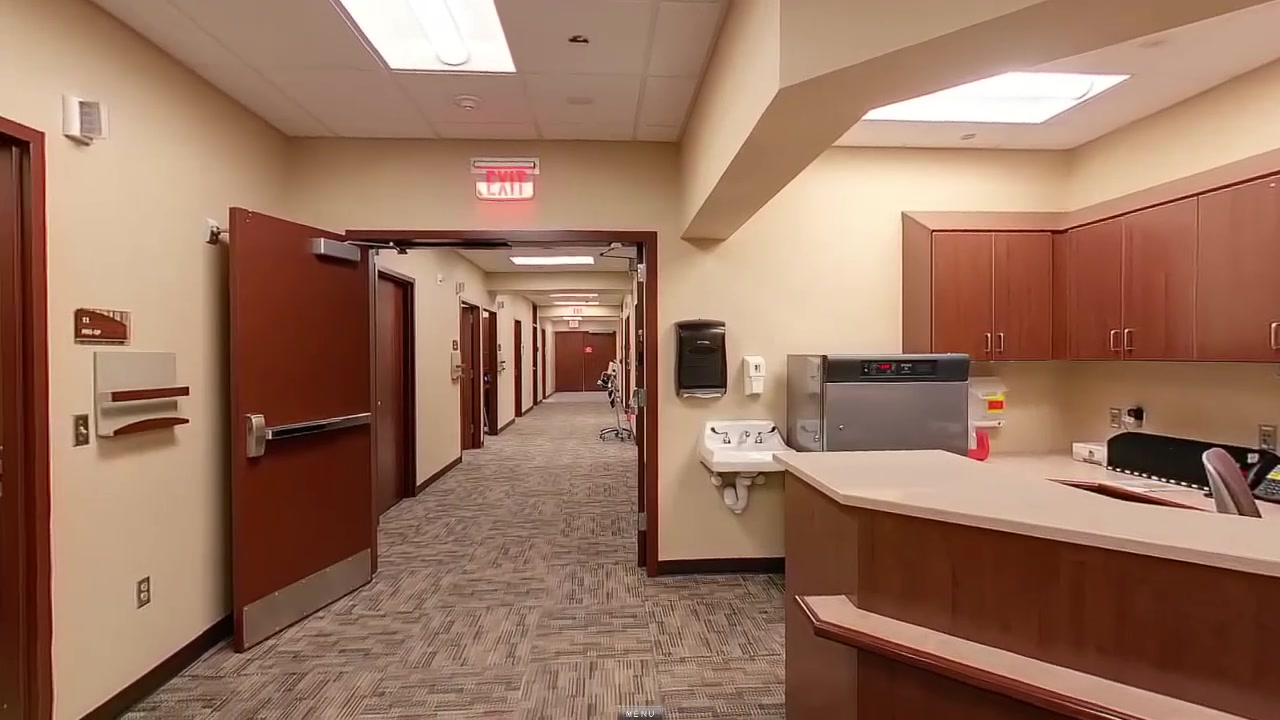cabinet: (902, 140, 1276, 362)
counter: (772, 449, 1280, 720)
countertop: (772, 450, 1280, 559), (986, 447, 1280, 523)
dispenser: (674, 318, 727, 401), (742, 352, 768, 398)
faucet: (710, 425, 778, 444)
handle: (1268, 320, 1280, 352), (1108, 329, 1120, 352), (1124, 327, 1136, 350), (984, 331, 992, 353), (996, 331, 1004, 353)
light_switch: (71, 411, 93, 448)
push_latch: (242, 412, 373, 458)
sink: (698, 419, 797, 474)
telephone: (1245, 456, 1280, 503)
